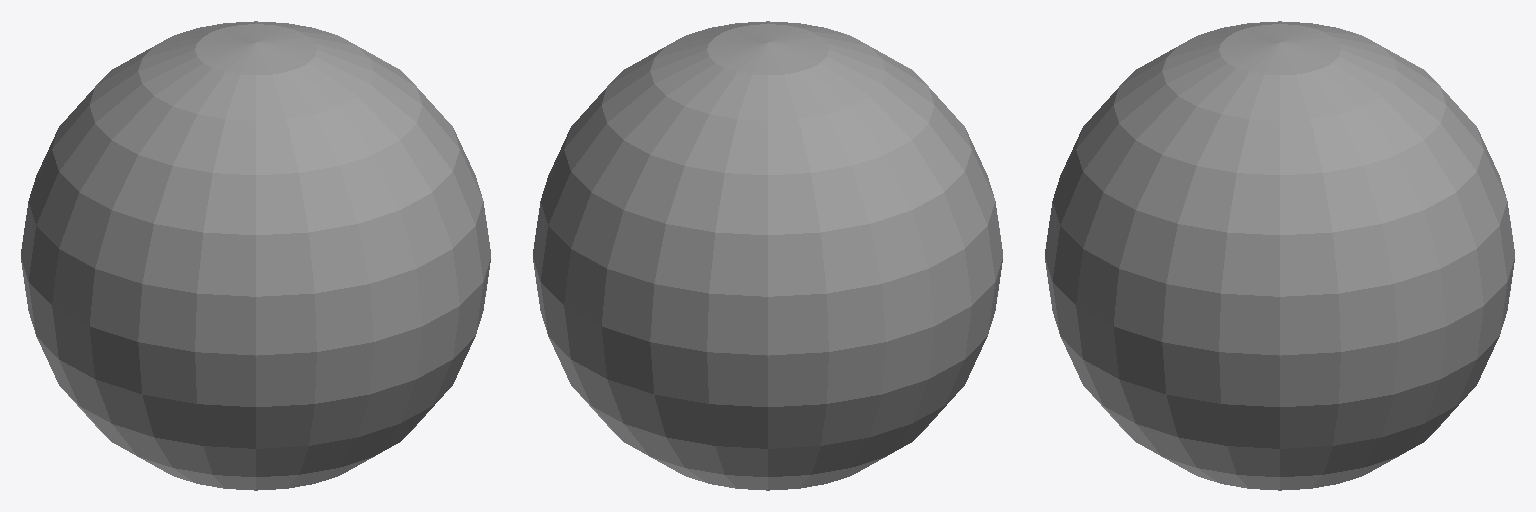
Rendered from DiscoBall.obj.
The picture shows the model from 3 angles: view 1: azimuth 30°, elevation 25°; view 2: azimuth 150°, elevation 25°; view 3: azimuth 270°, elevation 25°; orthographic projection.
Parts seen in each view (by area): view 1: DiscoBall_Sphere; view 2: DiscoBall_Sphere; view 3: DiscoBall_Sphere.
Boxes of the visible parts, box(x1,y1,x2,y2) form: DiscoBall_Sphere: box(21, 21, 490, 490); DiscoBall_Sphere: box(533, 21, 1002, 490); DiscoBall_Sphere: box(1045, 21, 1514, 490).
Bounding box in the file's own units: 2 × 2 × 2.